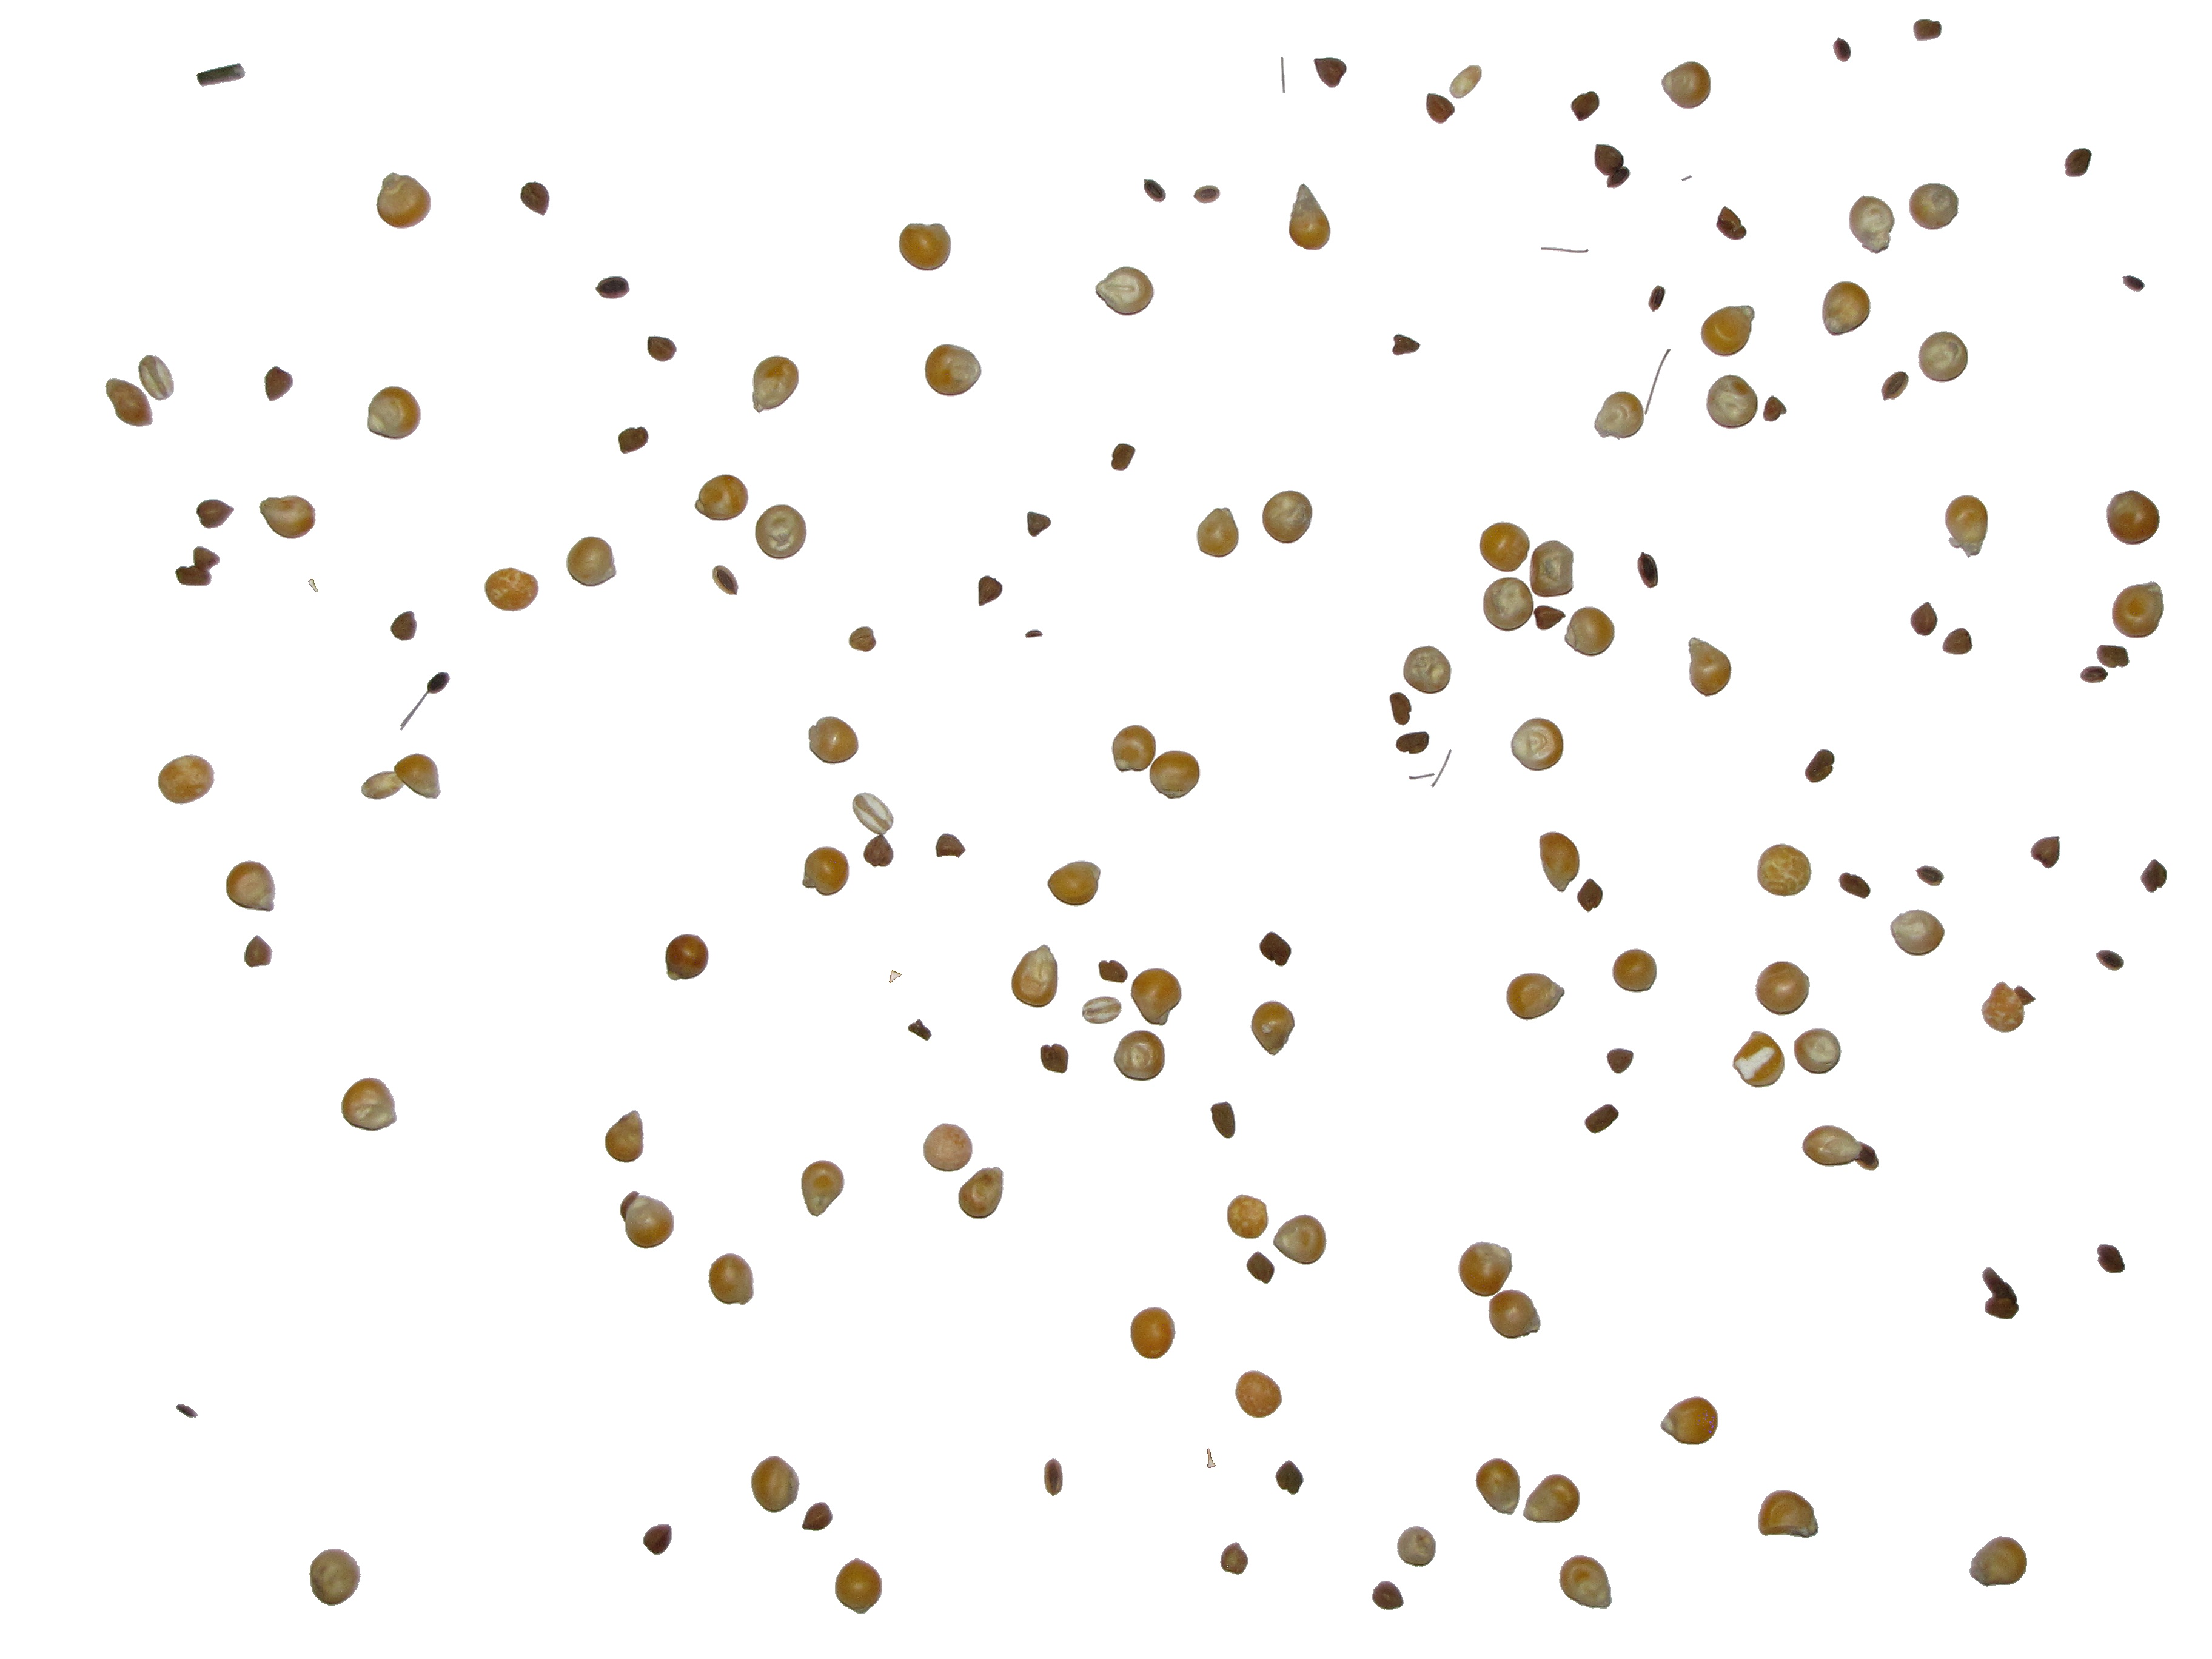buckwheat: (1982, 1267, 2019, 1319), (1374, 1575, 1406, 1610), (1259, 932, 1291, 965), (197, 64, 246, 85), (197, 500, 233, 528), (1804, 749, 1834, 782), (1313, 58, 1346, 87), (265, 366, 293, 401), (521, 181, 549, 216), (176, 561, 214, 586), (1717, 207, 1747, 239), (2031, 836, 2060, 868), (1595, 145, 1627, 174), (1247, 1251, 1275, 1284), (1585, 1105, 1618, 1133), (1275, 1462, 1303, 1495), (1211, 1101, 1235, 1138), (244, 936, 272, 967), (1533, 605, 1566, 631), (2141, 859, 2167, 892), (1912, 603, 1939, 636), (1881, 371, 1909, 401), (1426, 94, 1454, 124), (803, 1502, 833, 1530), (643, 1525, 671, 1554), (1040, 1044, 1068, 1073), (1839, 873, 1871, 899), (1221, 1544, 1247, 1575), (1578, 878, 1602, 911), (1395, 732, 1430, 755), (1571, 92, 1599, 120), (2097, 1244, 2125, 1272), (2066, 148, 2094, 176), (712, 565, 738, 594), (1942, 627, 1972, 653), (618, 427, 648, 453), (1637, 552, 1658, 589), (848, 626, 876, 652), (390, 612, 416, 640), (935, 833, 965, 857), (648, 336, 678, 361), (2097, 645, 2128, 667), (1043, 1459, 1062, 1495), (1390, 692, 1411, 725), (596, 277, 629, 298), (1111, 443, 1136, 471), (1099, 960, 1129, 983), (979, 577, 1001, 606), (1763, 396, 1787, 422), (1608, 1049, 1634, 1073), (1392, 335, 1420, 356), (1914, 19, 1942, 40), (1028, 512, 1050, 537), (2097, 950, 2123, 971), (1916, 866, 1944, 885), (1193, 185, 1219, 204), (2080, 666, 2107, 683), (909, 1019, 932, 1040), (1144, 179, 1165, 202), (1832, 38, 1851, 61), (1649, 286, 1665, 312), (2123, 275, 2144, 291)
dill: (401, 673, 449, 730), (1644, 349, 1670, 415), (1432, 749, 1451, 788), (176, 1405, 197, 1417), (1541, 247, 1588, 253), (1207, 1448, 1216, 1467), (1409, 774, 1433, 779), (1282, 58, 1285, 94), (890, 971, 900, 983), (308, 579, 317, 592), (1026, 631, 1042, 638), (1683, 176, 1691, 181)
mais: (620, 1192, 674, 1248), (341, 1077, 397, 1131), (376, 173, 430, 228), (2106, 490, 2160, 544), (1733, 1032, 1785, 1087), (1096, 267, 1155, 315), (1012, 945, 1057, 1007), (1756, 962, 1810, 1014), (1757, 843, 1811, 896), (1460, 1243, 1512, 1297), (1130, 969, 1181, 1025), (310, 1549, 361, 1605), (756, 504, 806, 559), (925, 345, 981, 396), (2113, 582, 2163, 638), (1759, 1490, 1818, 1537), (1289, 183, 1331, 249), (1559, 1556, 1611, 1608), (368, 387, 420, 439), (1702, 305, 1756, 356), (1707, 375, 1757, 429), (751, 1457, 799, 1513), (158, 755, 214, 803), (1970, 1537, 2026, 1586), (1507, 972, 1564, 1019), (1512, 718, 1562, 770), (1822, 281, 1871, 335), (1263, 490, 1312, 544), (1484, 577, 1533, 631), (1946, 495, 1987, 558), (1662, 1398, 1717, 1445), (1524, 1474, 1580, 1521), (1850, 195, 1895, 253), (752, 356, 798, 413), (1803, 1126, 1862, 1169), (1115, 1030, 1165, 1080), (1273, 1215, 1325, 1263), (695, 474, 749, 521), (1475, 1459, 1521, 1514), (836, 1558, 881, 1614), (1529, 540, 1573, 598), (1689, 638, 1731, 697), (1564, 606, 1615, 655), (1479, 523, 1529, 572), (1489, 1290, 1540, 1338), (226, 861, 275, 911), (1919, 331, 1968, 382), (899, 223, 951, 270), (1890, 910, 1944, 955), (1540, 831, 1580, 892), (801, 1161, 845, 1216), (568, 537, 617, 586), (1594, 392, 1644, 439), (808, 716, 859, 763), (1150, 751, 1200, 798), (958, 1166, 1003, 1218), (1049, 861, 1101, 906), (1130, 1307, 1176, 1359), (1251, 1000, 1294, 1054), (260, 497, 315, 538), (1662, 61, 1710, 108), (1909, 183, 1958, 230), (923, 1124, 972, 1171), (486, 568, 538, 612), (1404, 647, 1451, 694), (106, 378, 152, 427), (803, 847, 848, 896), (709, 1253, 752, 1303), (1237, 1371, 1282, 1419), (1111, 725, 1157, 772), (1794, 1028, 1841, 1073), (1197, 507, 1238, 558), (665, 934, 709, 981), (1982, 983, 2024, 1032), (604, 1110, 643, 1162), (1613, 950, 1656, 992), (399, 755, 441, 798), (1228, 1194, 1268, 1239), (1397, 1527, 1435, 1567)
other: (852, 793, 897, 838), (139, 356, 174, 401), (1082, 997, 1122, 1023), (1449, 66, 1480, 98)
